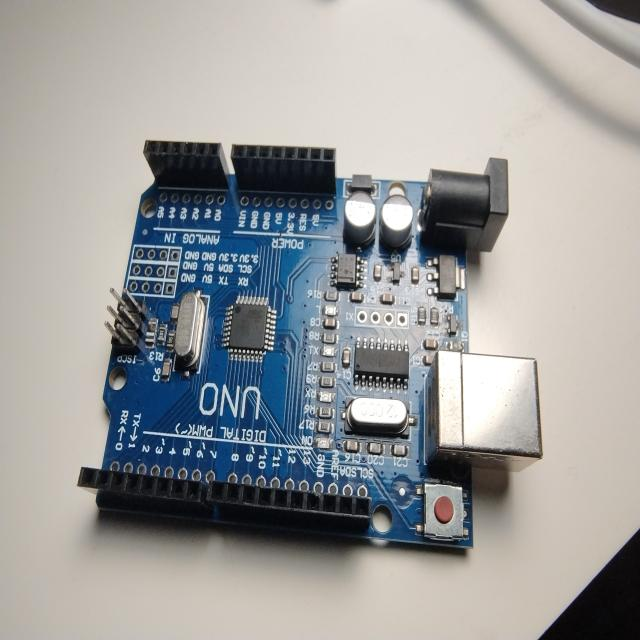arduino: (90, 123, 548, 557)
